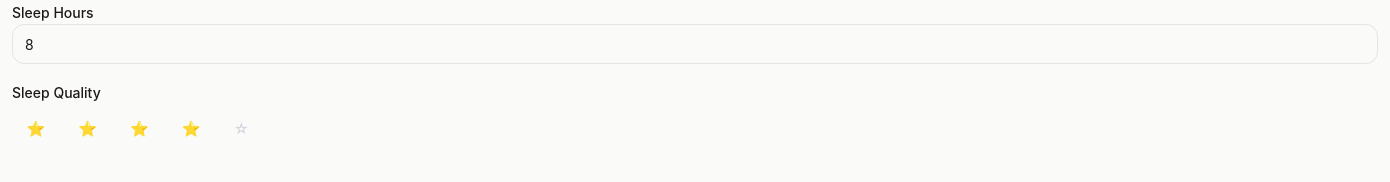
Test case: SleepQualityInput › Hours Input › should show validation error for negative values
Replace the text in the number field labelled "Sleep Hours" with "-1" at x=695, y=44, box left=12, top=24, right=1378, bottom=64
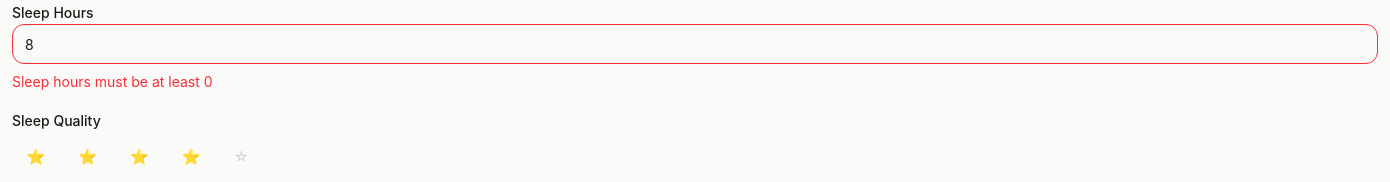
Expected: the message reads "Sleep hours must be at least 0", left=12, top=73, right=212, bottom=90
